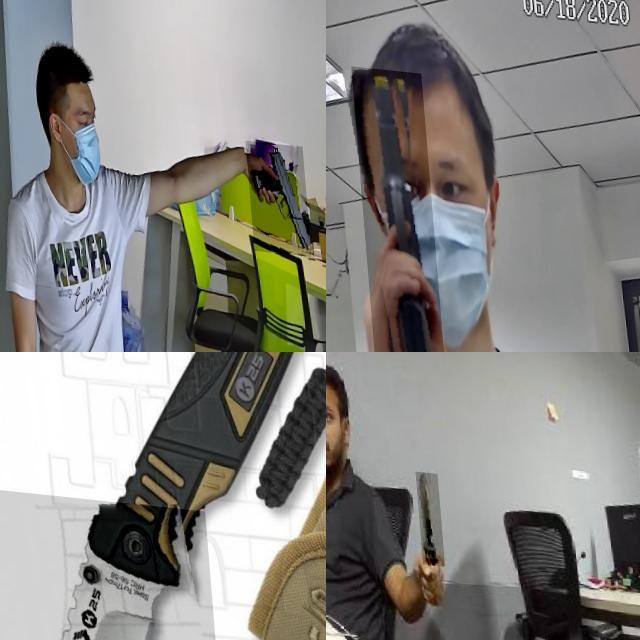-: (0, 486, 221, 640), (409, 465, 437, 560)
gun-knife-thesis - v11 Yolov5 augmented: (349, 60, 440, 352), (241, 130, 305, 245)
